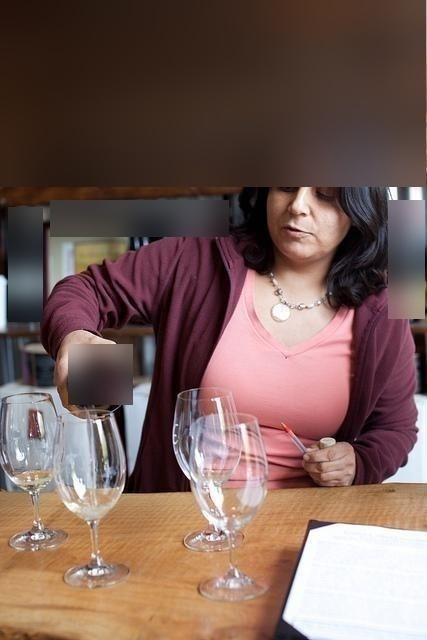glass-wine: (192, 413, 273, 603), (56, 414, 137, 584), (177, 386, 248, 556), (4, 390, 68, 549)
